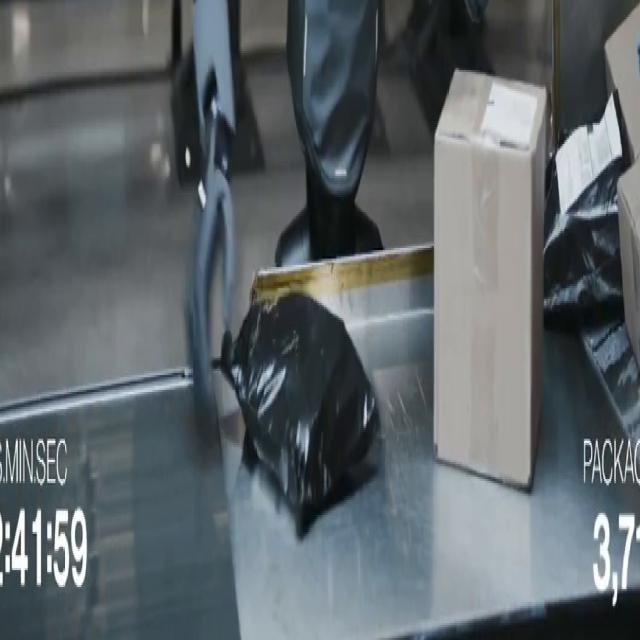package: (434, 70, 547, 489), (221, 293, 379, 536), (544, 92, 628, 330), (605, 7, 639, 362), (605, 5, 639, 163), (618, 162, 639, 362)
